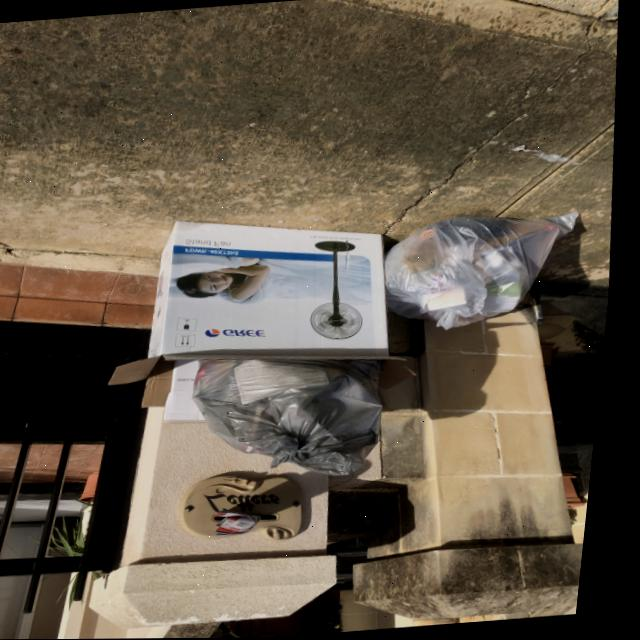Organic Waste -White Bag-: (382, 204, 589, 331)
Other: (148, 199, 414, 371)
Recycled Waste -Grey or Green Bag-: (190, 346, 399, 484)
